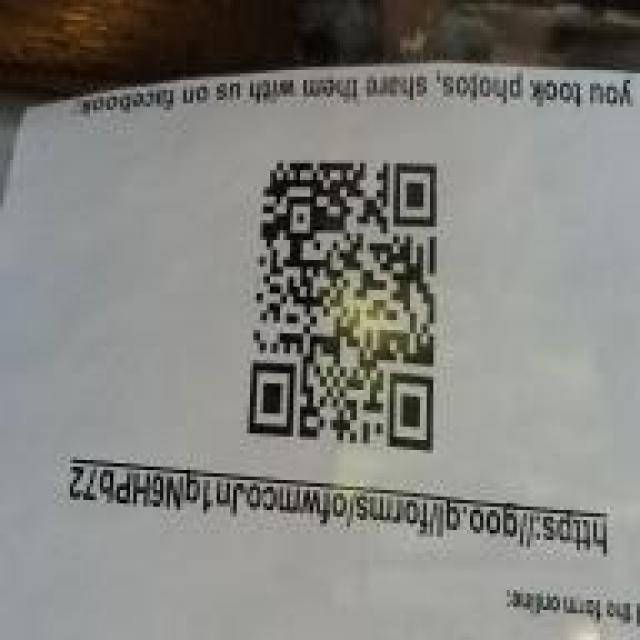qr_code: (248, 161, 438, 453)
